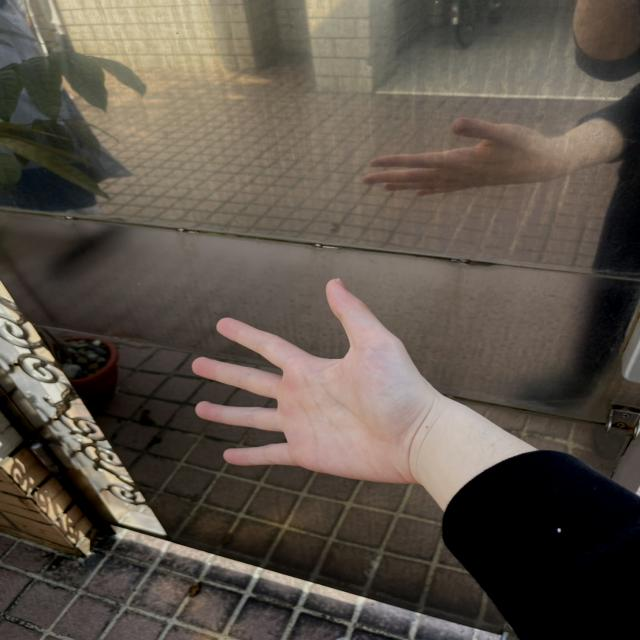no_glove: (176, 264, 445, 520), (346, 92, 590, 216)
